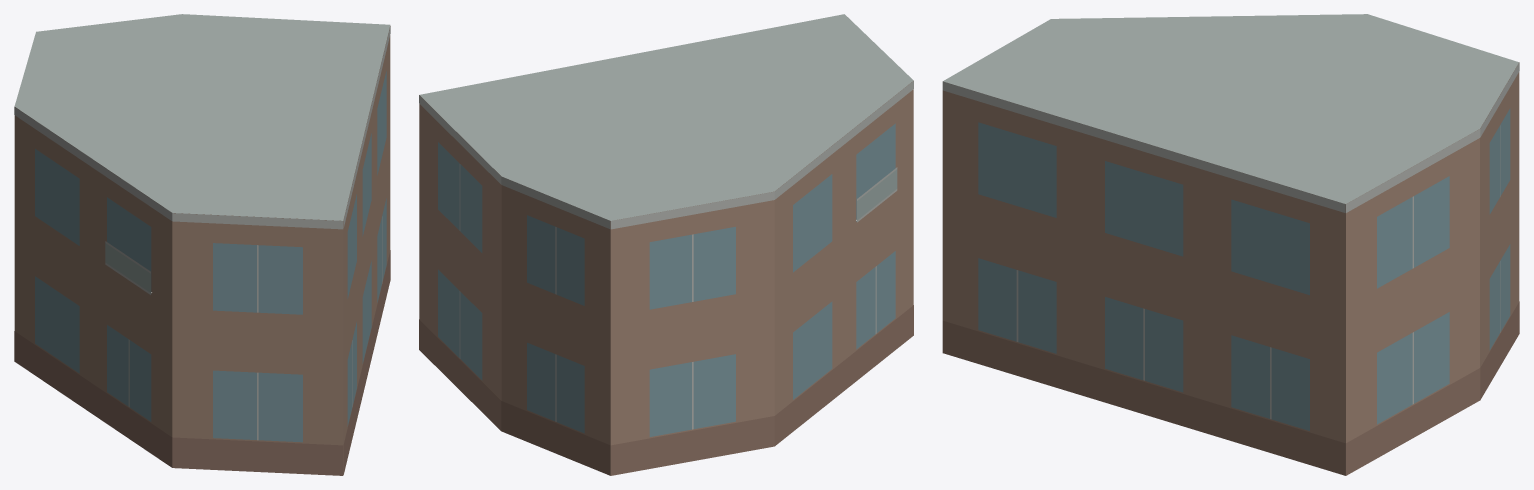
The model's file is survey-upis-32500363.glb.
3 views of the same model, side by side, from view 1: azimuth 30°, elevation 25°; view 2: azimuth 150°, elevation 25°; view 3: azimuth 270°, elevation 25° (orthographic). The views are drawn at different scales.
Parts seen in each view (by area): view 1: survey-upis-32500363.tmp; view 2: survey-upis-32500363.tmp; view 3: survey-upis-32500363.tmp.
Boxes of the visible parts, bbox=[...] form: survey-upis-32500363.tmp: bbox=[14, 14, 390, 475]; survey-upis-32500363.tmp: bbox=[419, 14, 913, 475]; survey-upis-32500363.tmp: bbox=[942, 14, 1519, 475].
Bounding box in the file's own units: 10.97 × 7.3 × 14.05.
